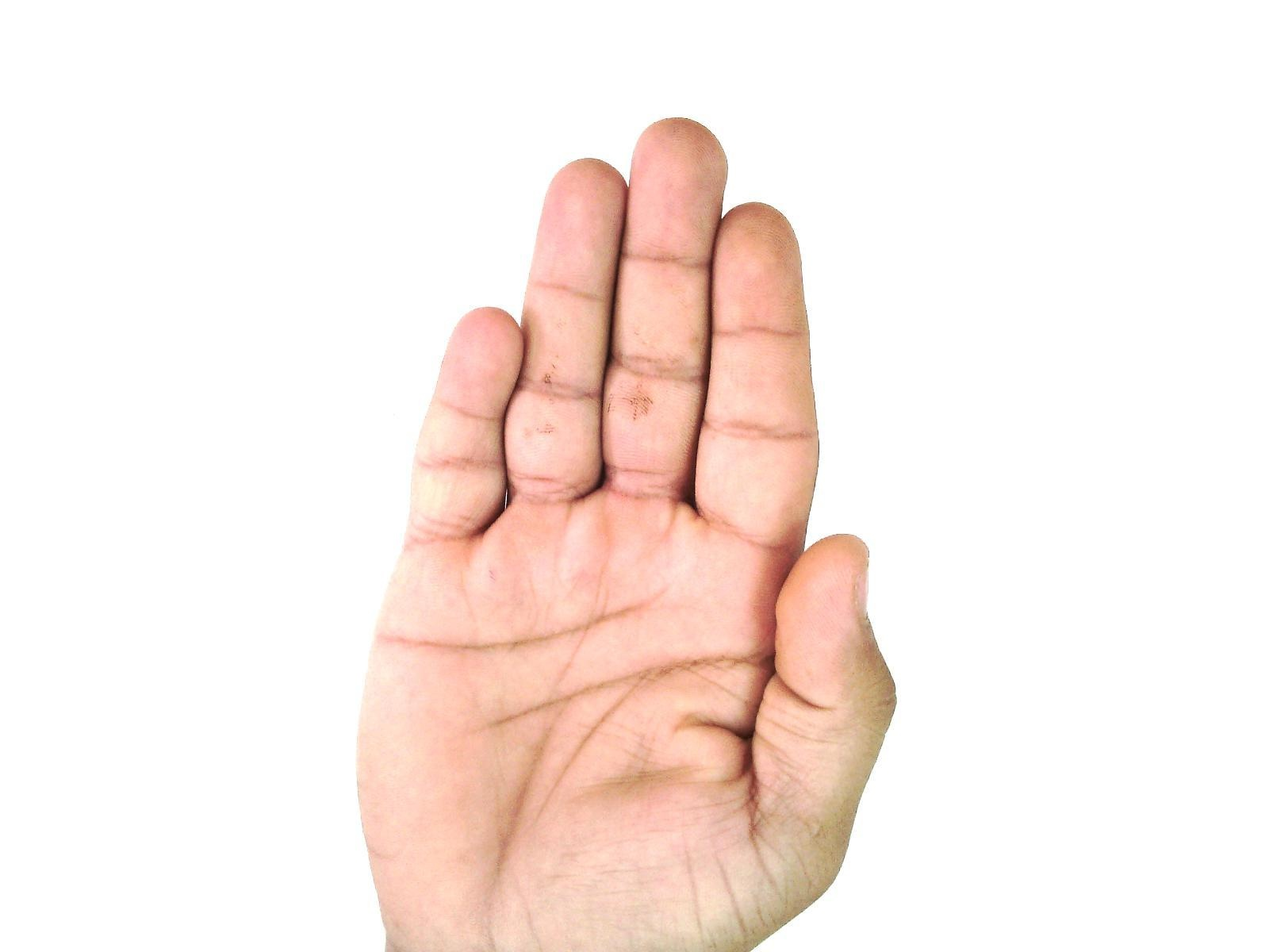open_palm: (353, 117, 900, 952)
